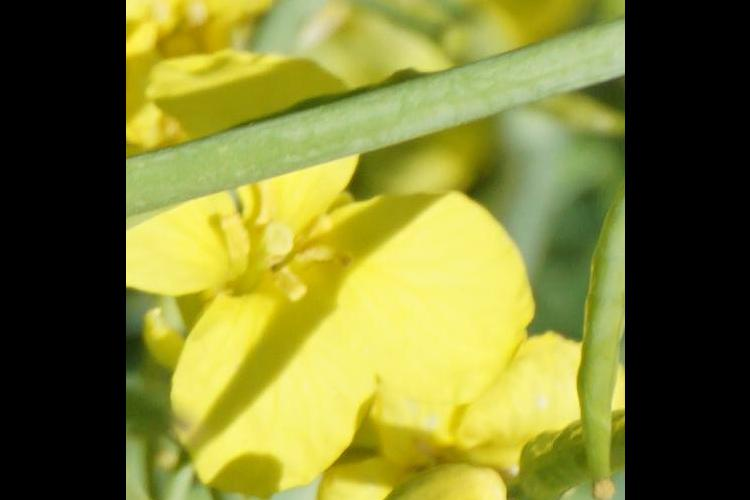bud: (345, 464, 508, 500)
pod: (561, 170, 624, 500)
yellow: (137, 46, 532, 500), (130, 1, 340, 65)
